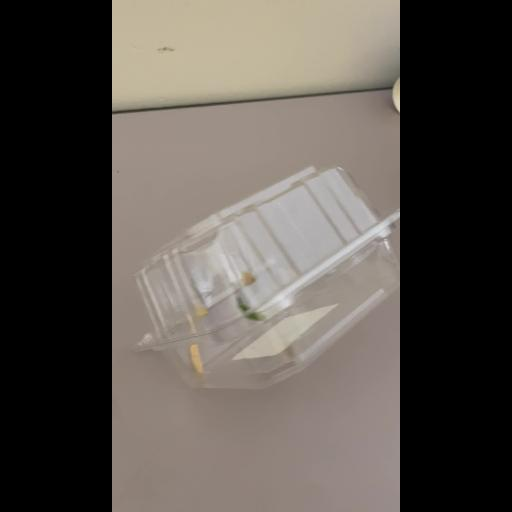small_plastic_container: (133, 160, 397, 396)
